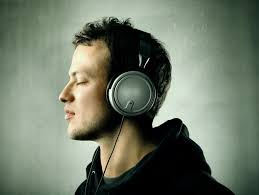Humano: (55, 16, 192, 195)
